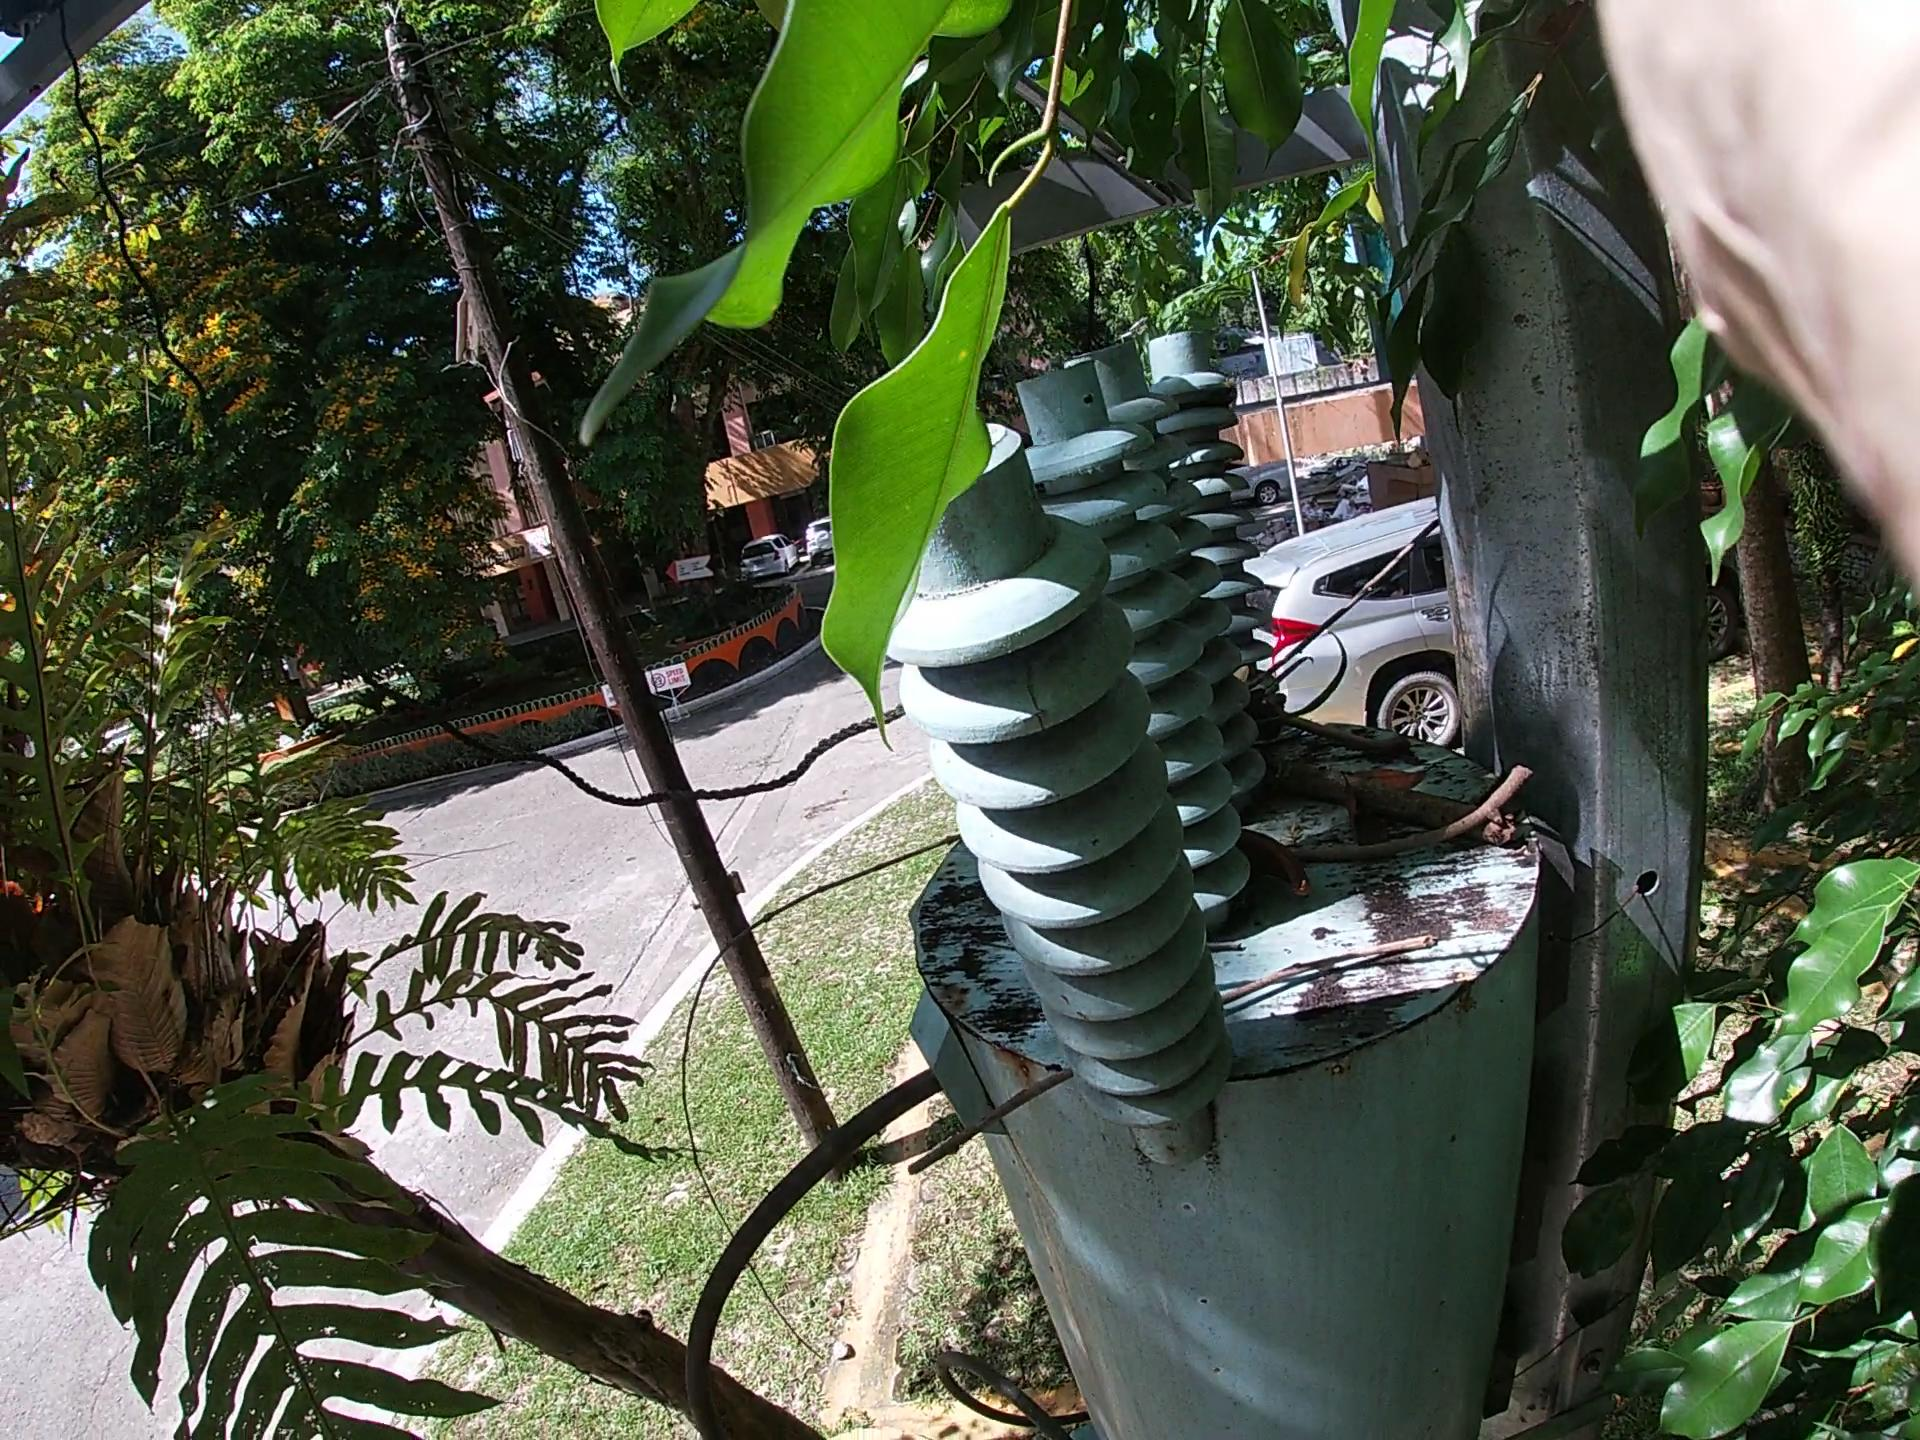leaf: (1364, 726, 1398, 861)
mahogany fruit: (1241, 622, 1492, 843)
tree branch: (532, 442, 1497, 1190), (903, 939, 1577, 1165), (1274, 759, 1562, 883), (1277, 744, 1510, 861)
